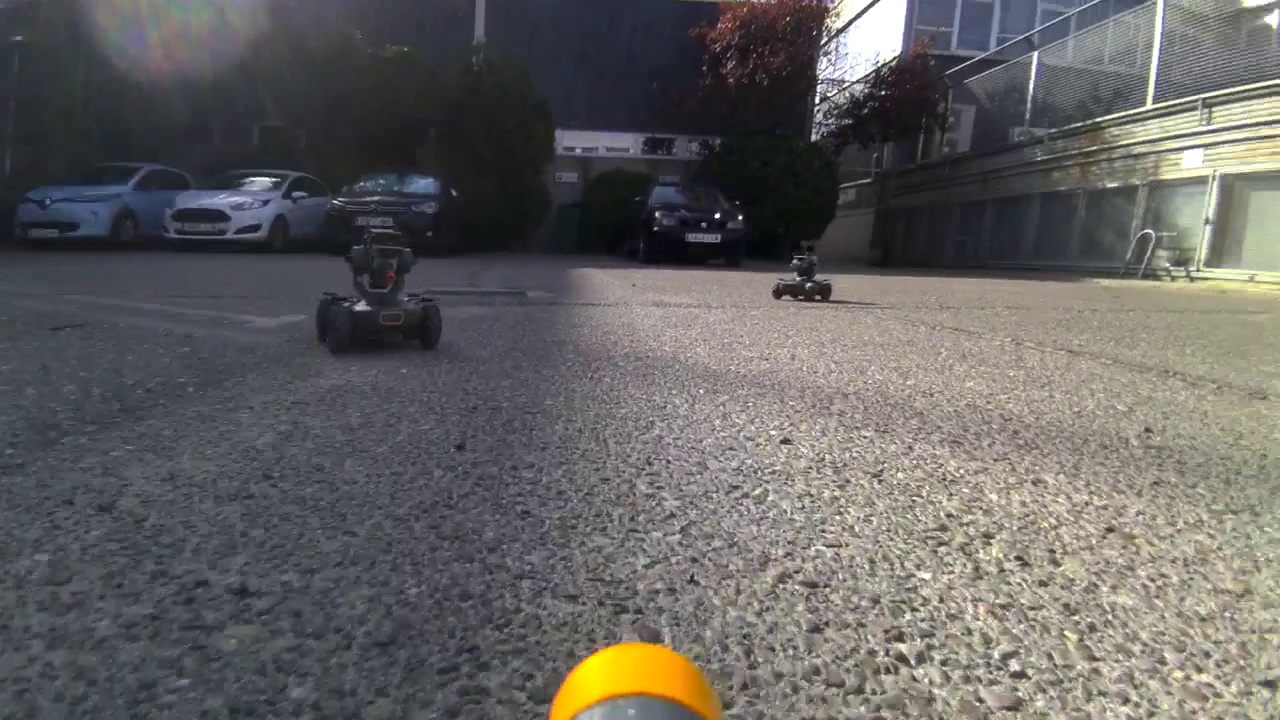robot: (309, 206, 459, 356), (766, 240, 838, 310)
